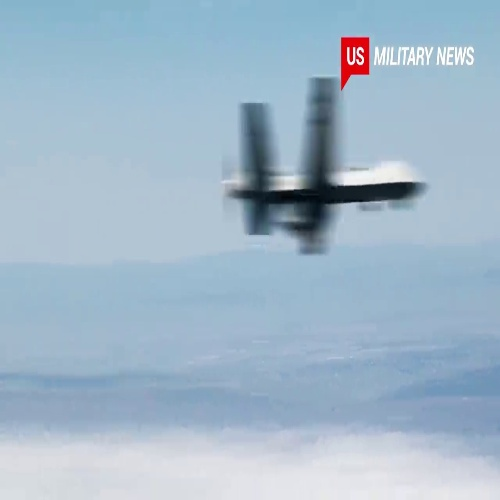uav: (219, 72, 427, 256)
